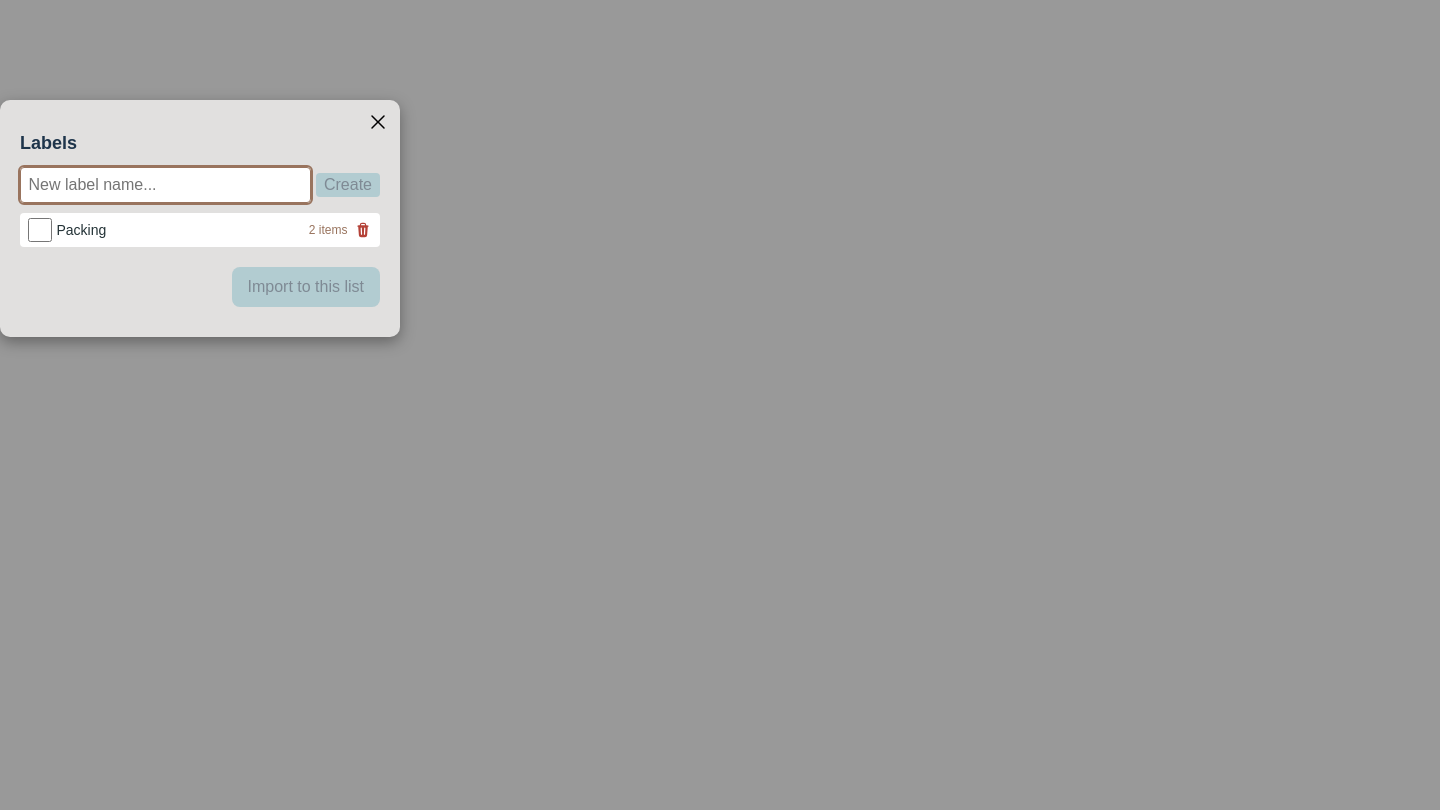
tells the user when the label name is already taken
Step 1. Type "Packing" into the field with placeholder "New label name..." → (166, 185), box 20,167 -> 311,203
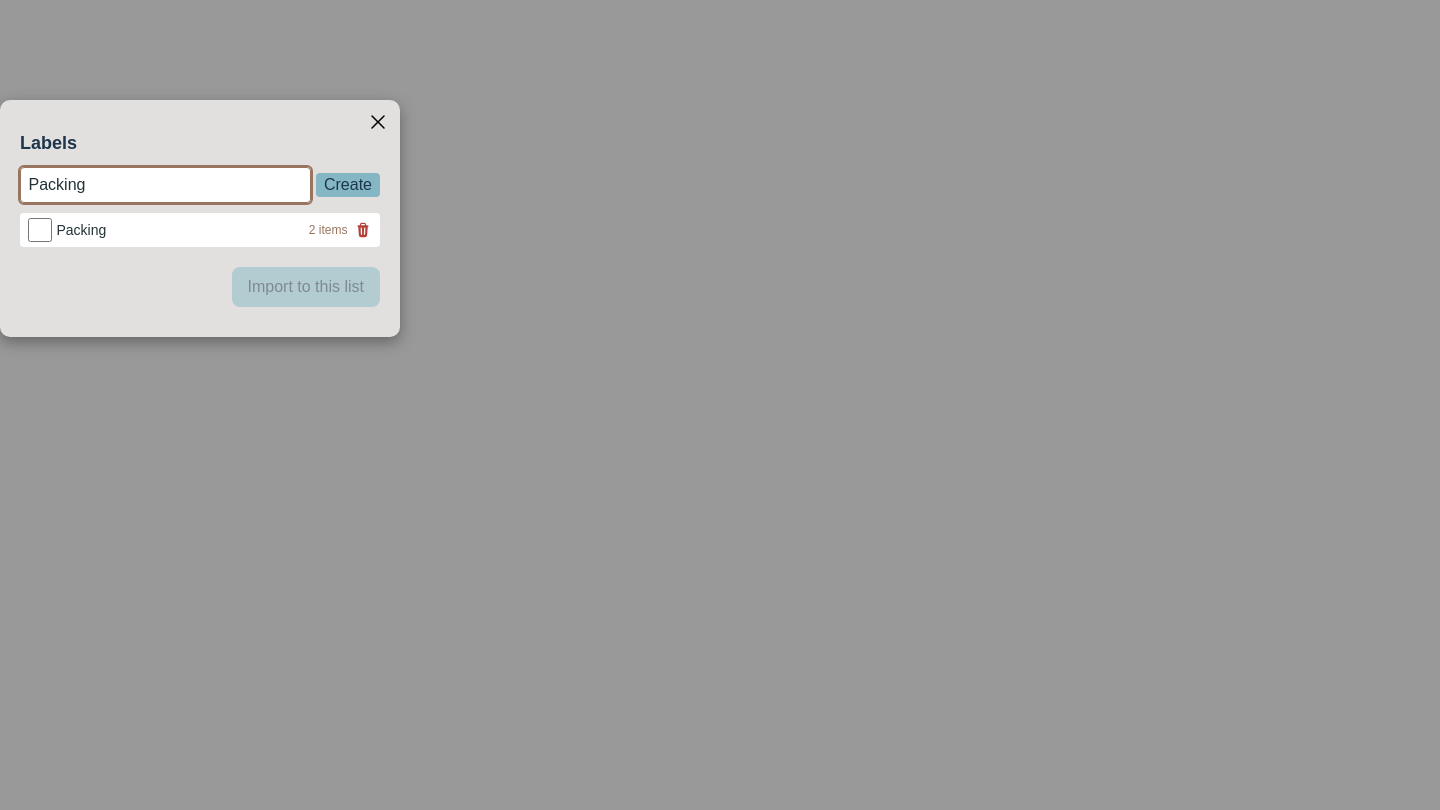
Step 2. Click the button "Create" → (348, 185), box 316,173 -> 380,197
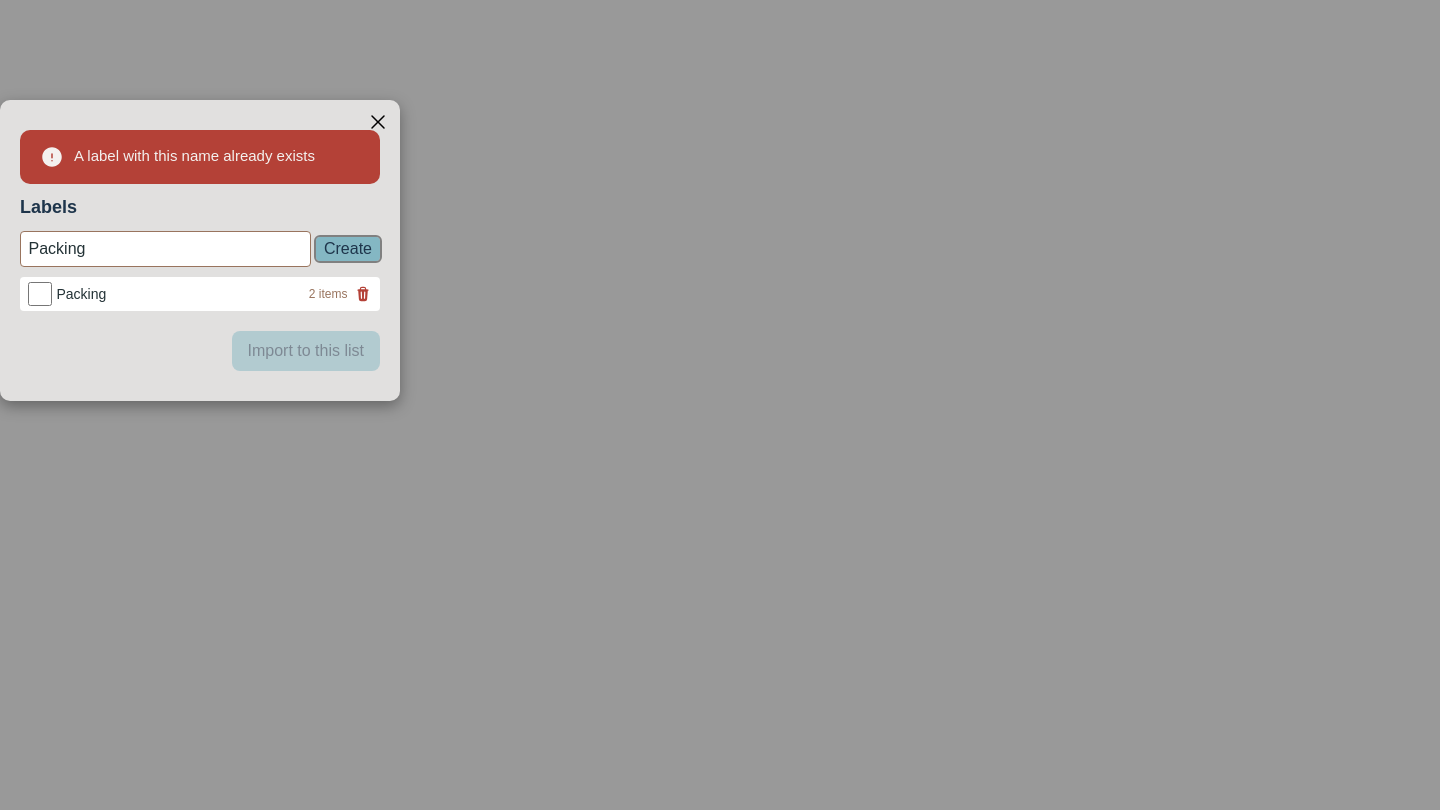
Expected: the text "A label with this name already exists" is shown, 20,130 -> 380,184
